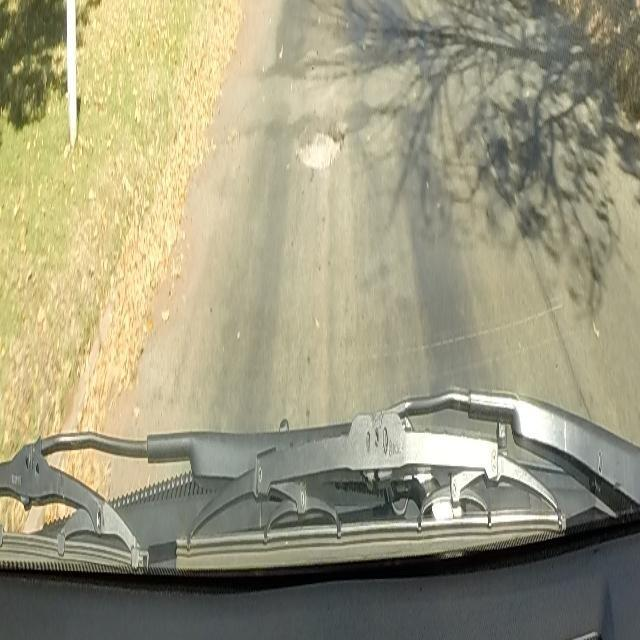pothole: (294, 111, 346, 178)
